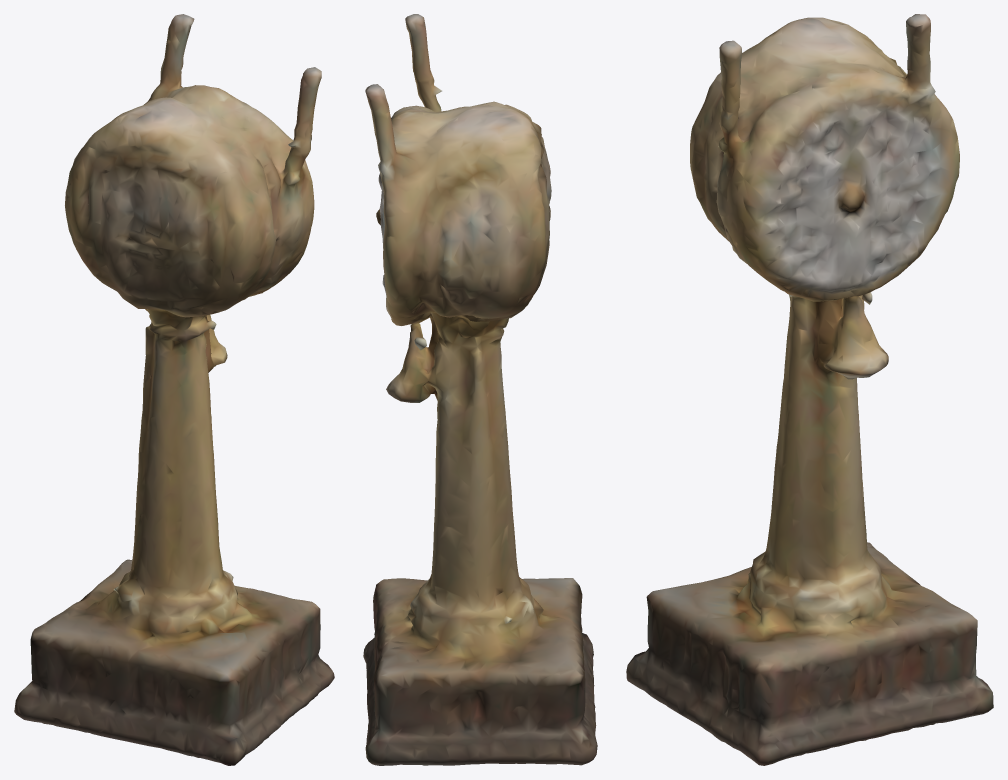
3 renders of one model, left to right at view 1: azimuth 30°, elevation 25°; view 2: azimuth 150°, elevation 25°; view 3: azimuth 270°, elevation 25°, orthographic. The views are drawn at different scales.
Visible parts, largest first — view 1: geometry_0; view 2: geometry_0; view 3: geometry_0.
Boxes of the visible parts, x1,y1,x2,y2 form: geometry_0: (14, 14, 334, 765); geometry_0: (363, 14, 597, 765); geometry_0: (626, 14, 993, 765).
Bounding box in the file's own units: 0.5971 × 1.35 × 0.6267.
